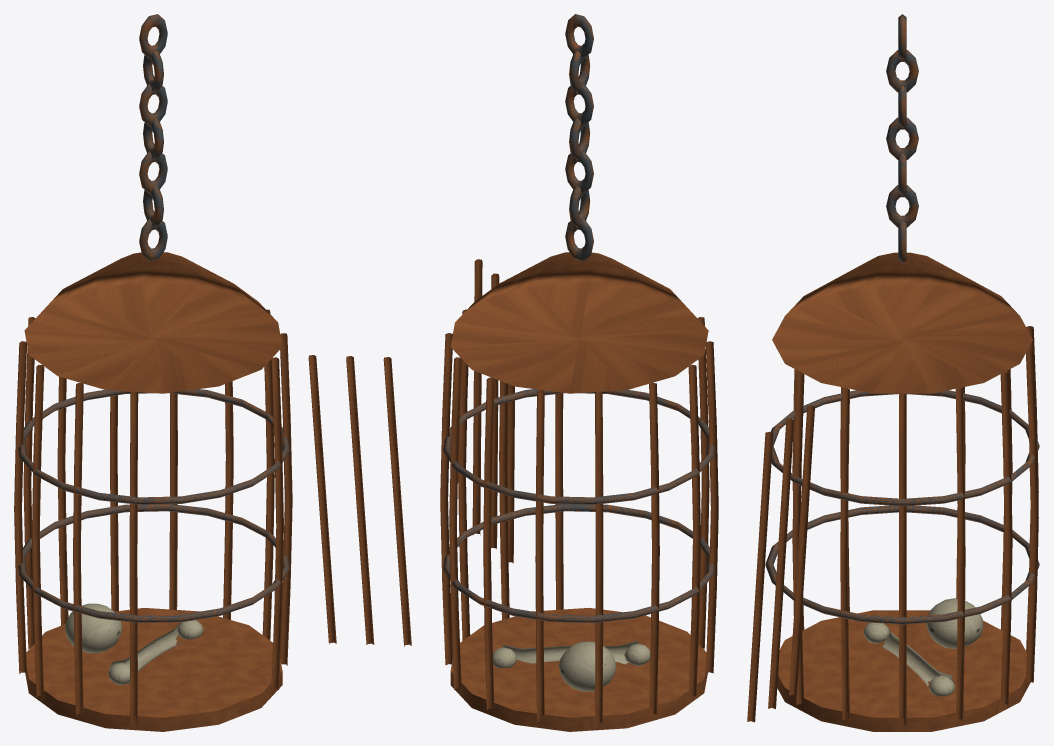
The model's file is rusted_hanging_cage.glb.
3 views of the same model, side by side, from view 1: azimuth 30°, elevation 25°; view 2: azimuth 150°, elevation 25°; view 3: azimuth 270°, elevation 25° (orthographic).
Parts seen in each view (by area): view 1: rusted_hanging_cage__iron_rusty, rusted_hanging_cage__iron, rusted_hanging_cage__bone; view 2: rusted_hanging_cage__iron_rusty, rusted_hanging_cage__iron, rusted_hanging_cage__bone; view 3: rusted_hanging_cage__iron_rusty, rusted_hanging_cage__iron, rusted_hanging_cage__bone.
Part boxes in pixels (x1,y1,x2,y2): rusted_hanging_cage__iron_rusty: (14, 252, 411, 731); rusted_hanging_cage__iron: (18, 14, 289, 623); rusted_hanging_cage__bone: (65, 603, 203, 685); rusted_hanging_cage__iron_rusty: (440, 252, 718, 731); rusted_hanging_cage__iron: (443, 14, 714, 623); rusted_hanging_cage__bone: (493, 641, 650, 691); rusted_hanging_cage__iron_rusty: (747, 252, 1038, 731); rusted_hanging_cage__iron: (765, 14, 1039, 624); rusted_hanging_cage__bone: (863, 598, 983, 696).
Bounding box in the file's own units: 1.34 × 2.8 × 1.12.
Materials: 3 (3 with a texture image).
